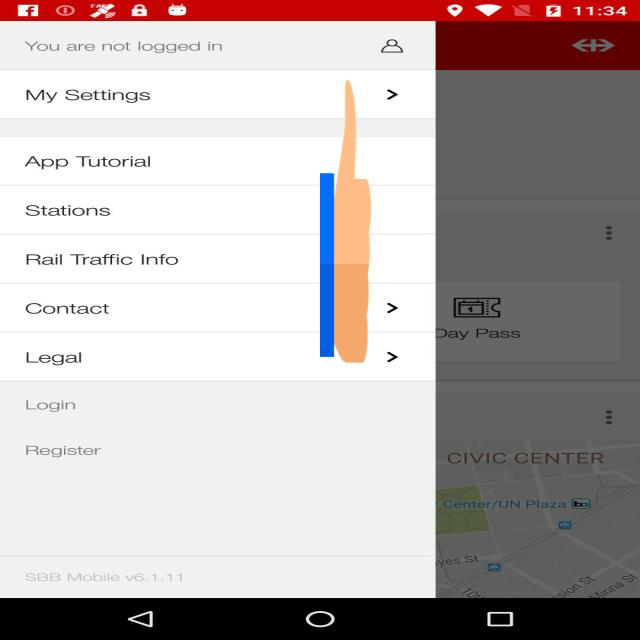privacy zuckering: (320, 73, 371, 370)
